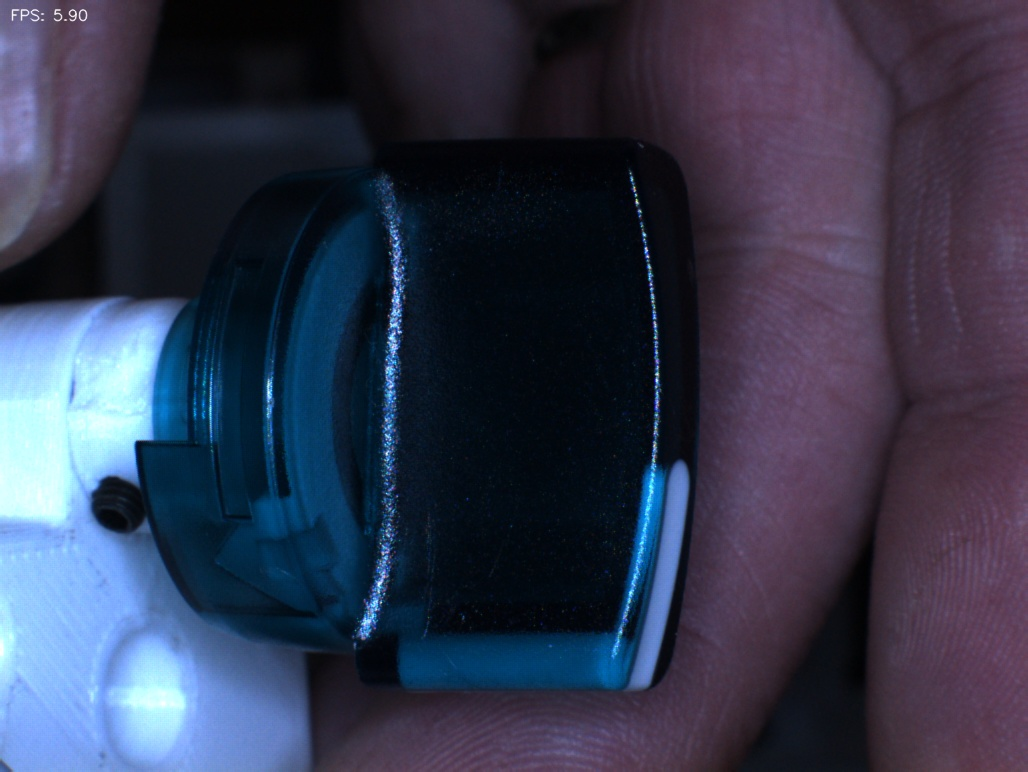Givrage: (401, 497, 472, 674)
